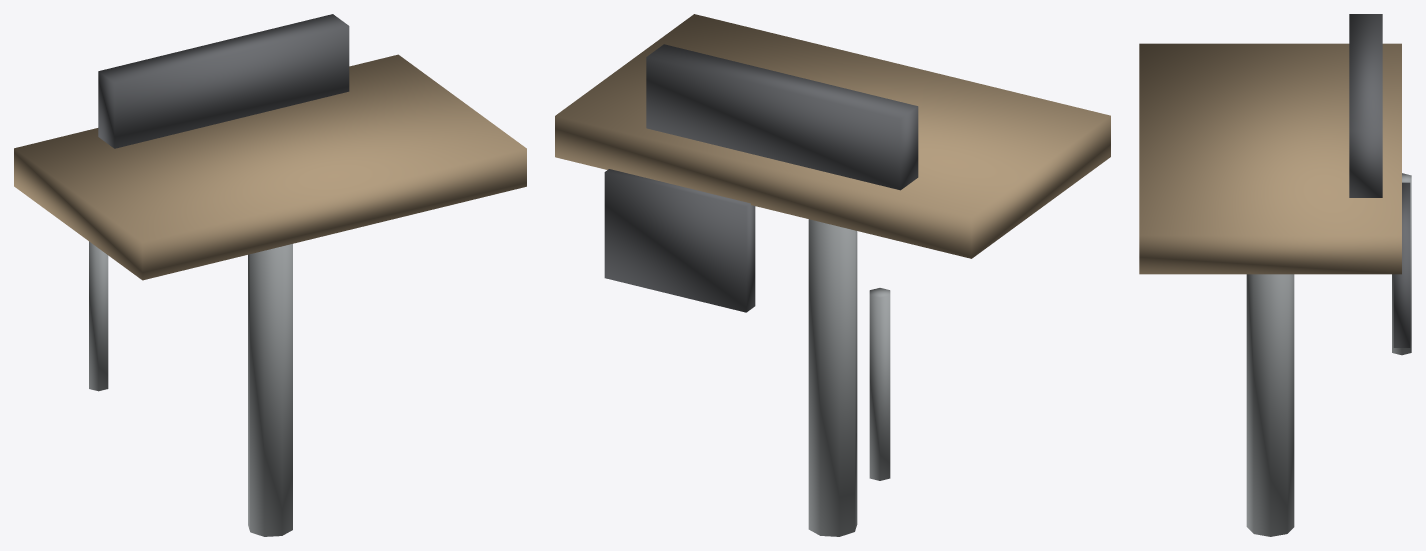
Rendered from deposit_desk__service.glb.
3 renders of one model, left to right at view 1: azimuth 30°, elevation 25°; view 2: azimuth 150°, elevation 25°; view 3: azimuth 270°, elevation 25°, orthographic. The views are drawn at different scales.
Visible parts, largest first — view 1: world; view 2: world; view 3: world.
Boxes of the visible parts, x1=… form: world: x1=14, y1=14, x2=526, y2=536; world: x1=555, y1=14, x2=1110, y2=536; world: x1=1139, y1=14, x2=1411, y2=536.
Bounding box in the file's own units: 0.95 × 1.05 × 0.5706.
